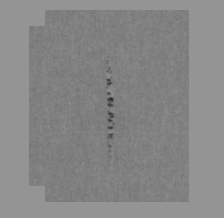oxl: (35, 10, 189, 208)
